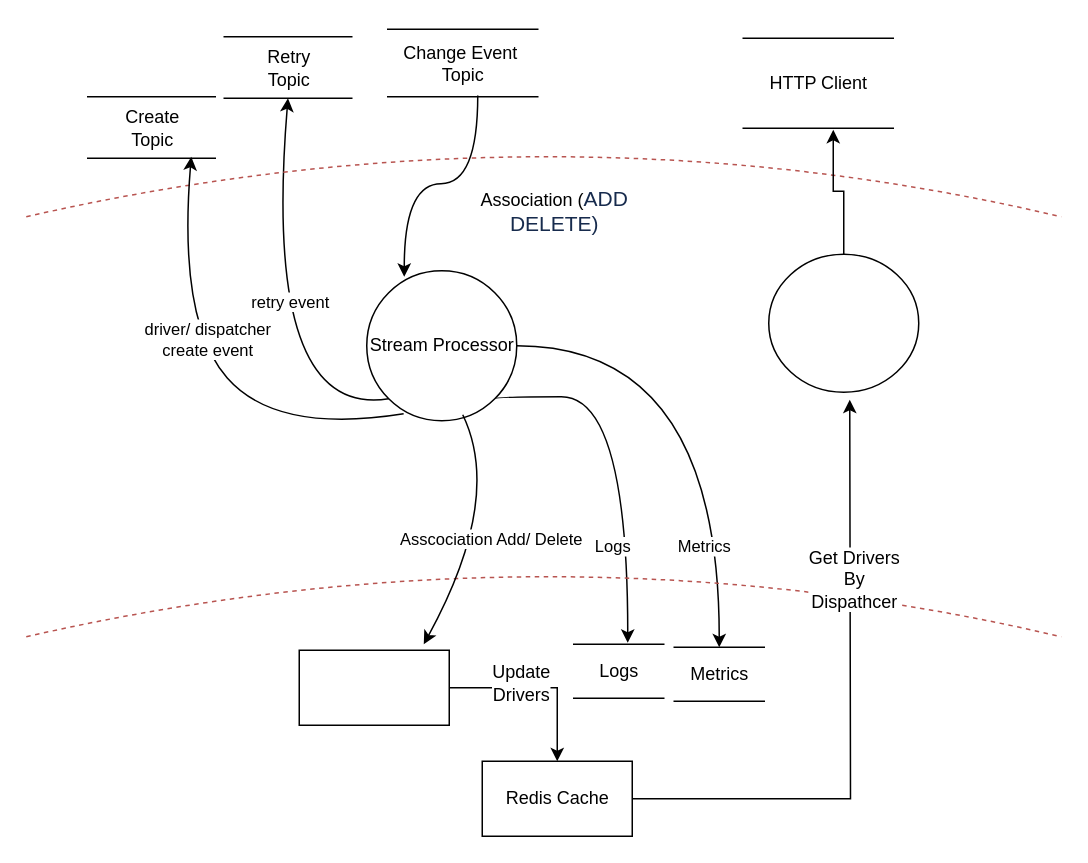
The diagram is 1088 pixels wide and 863 high, and some of its shapes have lost their labels. Here are the shapes that lost their labels. From the top down, the centre of each, then its label:
At point 843,322: "ZAPI".
At point 373,687: "ZDB".
